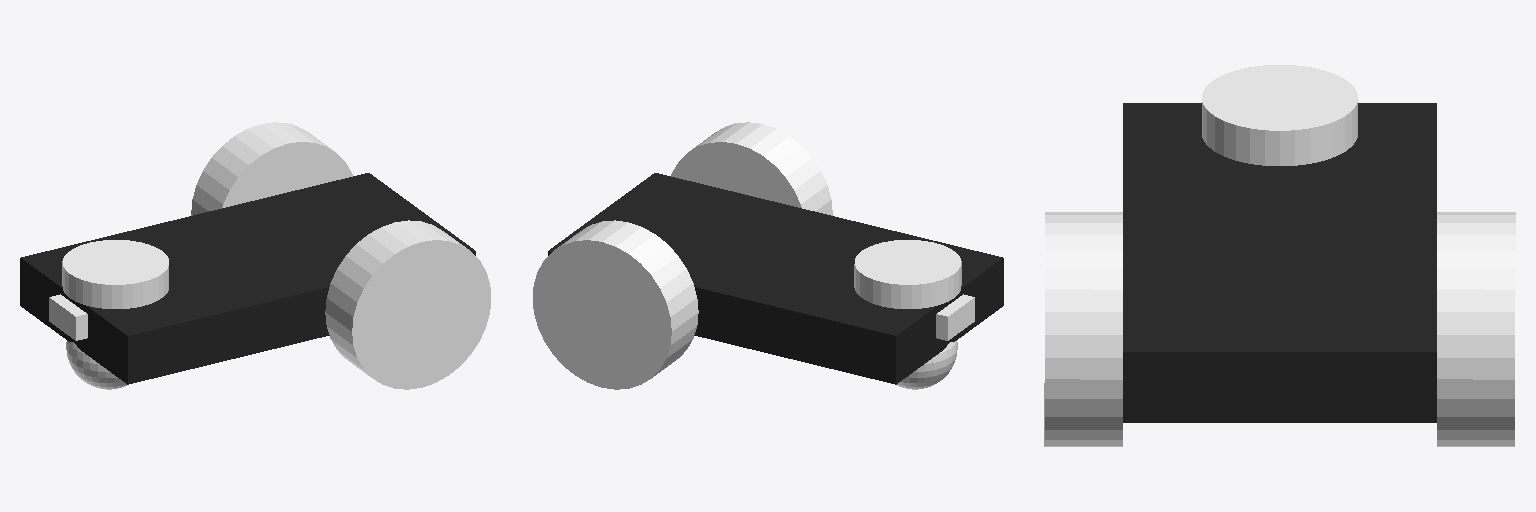
robot.urdf — three_wheeled_robot:
<?xml version="1.0" ?>
<!-- Define the robot model and name it "three_wheeled_robot" -->
<robot name="three_wheeled_robot">
    <link name="base_footprint"/>

    <!-- Define the base link of the robot -->
    <link name="base">
        <!-- Visual properties of the base link -->
        <visual>
            <geometry>
                <!-- The base is represented as a box with the specified dimensions -->
                <box size="0.75 0.4 0.1"/>
            </geometry>
            <material name="gray">
                <!-- Set the color of the base to gray -->
                <color rgba=".2 .2 .2 1" />
            </material>
        </visual>
        <!-- Inertial properties of the base link -->
        <inertial>
            <!-- Mass of the base link -->
            <mass value="1" />
            <!-- Inertia tensor of the base link -->
            <inertia ixx="0.01" ixy="0.0" ixz="0" iyy="0.01" iyz="0" izz="0.01" />
        </inertial>

        
        <!-- Collision properties of the base link -->
        <collision>
            <geometry>
                <!-- The collision shape is the same as the visual shape -->
                <box size="0.75 0.4 0.1"/>
            </geometry>
        </collision>
    </link>

     
    <!-- Define the right wheel link of the robot -->
    <link name="wheel_right_link">
        <!-- Inertial properties of the right wheel -->
        <inertial>
            <!-- Mass of the right wheel -->
            <mass value="2" />
            <!-- Inertia tensor of the right wheel -->
            <inertia ixx="0.01" ixy="0.0" ixz="0" iyy="0.01" iyz="0" izz="0.01" />
        </inertial>
     

        <!-- Visual properties of the right wheel -->
        <visual>
            <geometry>
                <!-- The right wheel is represented as a cylinder with the specified radius and length -->
                <cylinder radius="0.15" length="0.1"/>
            </geometry>
            <material name="white">
                <!-- Set the color of the right wheel to white -->
                <color rgba="1 1 1 1"/>
            </material>
        </visual>
        <!-- Collision properties of the right wheel -->
        <collision>
            <geometry>
                <!-- The collision shape is the same as the visual shape -->
                <cylinder radius="0.15" length="0.1"/>
            </geometry>
            <contact_coefficients mu="1" kp="1e+13" kd="1.0"/>
        </collision>
    </link>

    <joint name="footprint_joint" type="fixed">
        <!-- Origin of the joint in relation to the parent link (base) -->
        <origin xyz="0.0 0.0 0.0" rpy="0.0 0.0 0.0"/>
        <!-- The parent link of this joint -->
        <parent link="base_footprint"/>
        <!-- The child link of this joint -->
        <child link="base"/>
        <!-- The axis of rotation for the joint -->
        <axis xyz="0.0 0.0 1.0"/>
    </joint>
       
    <!-- Define the joint for the right wheel -->
    <joint name="wheel_right_joint" type="continuous">
        <!-- Origin of the joint in relation to the parent link (base) -->
        <origin xyz="0.2 0.25 0.0" rpy="1.57 0.0 0.0"/>
        <!-- The parent link of this joint -->
        <parent link="base"/>
        <!-- The child link of this joint -->
        <child link="wheel_right_link"/>
        <!-- The axis of rotation for the joint -->
        <axis xyz="0.0 0.0 1.0"/>
    </joint>

    <!-- Define the left wheel link of the robot -->
    <link name="wheel_left_link">
        <!-- Inertial properties of the left wheel -->
        <inertial>
            <!-- Mass of the left wheel -->
            <mass value="2" />
            <!-- Inertia tensor of the left wheel -->
            <inertia ixx="0.01" ixy="0.0" ixz="0" iyy="0.01" iyz="0" izz="0.01" />
        </inertial>
        <!-- Visual properties of the left wheel -->
        <visual>
            <geometry>
                <!-- The left wheel is represented as a cylinder with the specified radius and length -->
                <cylinder radius="0.15" length="0.1"/>
            </geometry>
            <material name="white">
                <!-- Set the color of the left wheel to white -->
                <color rgba="1 1 1 1"/>
            </material>
        </visual>
        <!-- Collision properties of the left wheel -->
        <collision>
            <geometry>
                <!-- The collision shape is the same as the visual shape -->
                <cylinder radius="0.15" length="0.1"/>
            </geometry>
            <contact_coefficients mu="1" kp="1e+13" kd="1.0"/>
        </collision>
    </link>

    <!-- Define the joint for the left wheel -->
    <joint name="wheel_left_joint" type="continuous">
        <!-- Origin of the joint in relation to the parent link (base) -->
        <origin xyz="0.2 -0.25 0.0" rpy="1.57 0.0 0.0"/>
        <!-- The parent link of this joint -->
        <parent link="base"/>
        <!-- The child link of this joint -->
        <child link="wheel_left_link"/>
        <!-- The axis of rotation for the joint -->
        <axis xyz="0.0 0.0 1.0"/>
    </joint>

    <!-- Define the caster link of the robot -->
    <link name="caster">
        <!-- Inertial properties of the caster -->
        <inertial>
            <!-- Mass of the caster -->
            <mass value="1" />
            <!-- Inertia tensor of the caster -->
            <inertia ixx="0.01" ixy="0.0" ixz="0" iyy="0.01" iyz="0" izz="0.01" />
        </inertial>
        <!-- Visual properties of the caster -->
        <visual>
            <geometry>
                <!-- The caster is represented as a sphere with the specified radius -->
                <sphere radius=".08" />
            </geometry>
            <material name="white" />
        </visual>
        <!-- Collision properties of the caster -->
        <collision>
            <origin/>
            <geometry>
                <!-- The collision shape is the same as the visual shape -->
                <sphere radius=".08" />
            </geometry>
        </collision>
    </link>

    <!-- Define the joint for the caster -->
    <joint name="caster_joint" type="continuous">
        <!-- Origin of the joint in relation to the parent link (base) -->
        <origin xyz="-0.3 0.0 -0.07" rpy="0.0 0.0 0.0"/>
        <axis xyz="0 0 1" />
        <!-- The parent link of this joint -->
        <parent link="base"/>
        <!-- The child link of this joint -->
        <child link="caster"/>
    </joint>

    <!-- Define the camera link of the robot -->
    <link name="camera">
        <!-- Inertial properties of the camera -->
        <inertial>
            <!-- Mass of the camera -->
            <mass value="0.1" />
            <!-- Inertia tensor of the camera -->
            <inertia ixx="0.01" ixy="0.0" ixz="0" iyy="0.01" iyz="0" izz="0.01" />
        </inertial>
        <!-- Visual properties of the camera -->
        <visual>
            <geometry>
                <!-- The camera is represented as a box with the specified dimensions -->
                <box size="0.1 0.1 0.05"/>
            </geometry>
            <material name="white">
                <!-- Set the color of the camera to white -->
                <color rgba="1 1 1 1"/>
            </material>
        </visual>
        <!-- Collision properties of the camera -->
        <collision>
            <geometry>
                <!-- The collision shape is the same as the visual shape -->
                <box size="0.1 0.1 0.05"/>
            </geometry>
        </collision>
    </link>

    <!-- Define the joint for the camera -->
    <joint name="camera_joint" type="fixed">
        <!-- Origin of the joint in relation to the parent link (base) -->
        <origin xyz="-0.35 0 0.01" rpy="0 0.0 3.14"/>
        <!-- The parent link of this joint -->
        <parent link="base"/>
        <!-- The child link of this joint -->
        <child link="camera"/>
        <!-- The axis of rotation for the joint -->
        <axis xyz="0.0 0.0 1.0"/>
    </joint>

    <!-- Define the lidar link of the robot -->
    <link name="lidar">
        <!-- Inertial properties of the lidar -->
        <inertial>
            <!-- Mass of the lidar -->
            <mass value="0.5" />
            <!-- Inertia tensor of the lidar -->
            <inertia ixx="0.01" ixy="0.0" ixz="0" iyy="0.01" iyz="0" izz="0.01" />
        </inertial>
        <!-- Visual properties of the lidar -->
        <visual>
            <geometry>
                <!-- The lidar is represented as a cylinder with the specified radius and length -->
                <cylinder radius="0.1" length="0.05"/>
            </geometry>
            <material name="white">
                <!-- Set the color of the lidar to white -->
                <color rgba="1 1 1 1"/>
            </material>
        </visual>
        <!-- Collision properties of the lidar -->
        <collision>
            <geometry>
                <!-- The collision shape is a box with the specified dimensions -->
                <box size="0.1 0.1 0.1"/>
            </geometry>
        </collision>
    </link>

    <!-- Define the joint for the lidar -->
    <joint name="lidar_joint" type="fixed">
        <!-- Origin of the joint in relation to the parent link (base) -->
        <origin xyz="-0.285 0 0.075" rpy="0 0.0 1.57"/>
        <!-- The parent link of this joint -->
        <parent link="base"/>
        <!-- The child link of this joint -->
        <child link="lidar"/>
        <!-- The axis of rotation for the joint -->
        <axis xyz="0.0 0.0 1.0"/>
    </joint>

    <!-- Define Gazebo-specific properties for the base link -->
    <gazebo reference="base">
        <!-- Set the material of the base link in Gazebo -->
        <material>Gazebo/WhiteGlow</material>
    </gazebo>

    <!-- Define Gazebo-specific properties for the left wheel link -->
    <gazebo reference="wheel_left_link">
        <!-- Set the material of the left wheel link in Gazebo -->
        <material>Gazebo/SkyBlue</material>
    </gazebo>

    <!-- Define Gazebo-specific properties for the right wheel link -->
    <gazebo reference="wheel_right_link">
        <!-- Set the material of the right wheel link in Gazebo -->
        <material>Gazebo/SkyBlue</material>
    </gazebo>

    <!-- Define Gazebo-specific properties for the caster -->
    <gazebo reference="caster">
        <!-- Set the material of the caster in Gazebo -->
        <material>Gazebo/Grey</material>
    </gazebo>

    <!-- Define Gazebo-specific properties for the lidar -->
    <gazebo reference="lidar">
        <!-- Set the material of the lidar in Gazebo -->
        <material>Gazebo/Blue</material>
    </gazebo>

    <!-- Define Gazebo-specific properties for the camera -->
    <gazebo reference="camera">
        <!-- Set the material of the camera in Gazebo -->
        <material>Gazebo/Red</material>
    </gazebo>

    <!-- Define the Gazebo plugin for differential drive control -->
    <gazebo>
        <plugin filename="libgazebo_ros_diff_drive.so" name="gazebo_base_controller">
            <!-- Odometry frame for the plugin -->
            <odometry_frame>odom</odometry_frame>
            <!-- Command topic for velocity commands -->
            <commandTopic>cmd_vel</commandTopic>
            <!-- Publish odometry data -->
            <publish_odom>true</publish_odom>
            <!-- Publish odometry transform -->
            <publish_odom_tf>true</publish_odom_tf>
            <!-- Update rate for the plugin -->
            <update_rate>15.0</update_rate>
            <!-- Left wheel joint name -->
            <left_joint>wheel_left_joint</left_joint>
            <!-- Right wheel joint name -->
            <right_joint>wheel_right_joint</right_joint>
            <!-- Wheel separation distance -->
            <wheel_separation>0.5</wheel_separation>
            <!-- Wheel diameter -->
            <wheel_diameter>0.3</wheel_diameter>
            <!-- Maximum wheel acceleration -->
            <max_wheel_acceleration>0.7</max_wheel_acceleration>
            <!-- Maximum wheel torque -->
            <max_wheel_torque>8</max_wheel_torque>
            <!-- Base frame of the robot -->
            <robotBaseFrame>base</robotBaseFrame>
        </plugin>
    </gazebo>

    <!-- Define the Gazebo plugin for the camera -->
    <gazebo reference="camera">
        <!-- Define the camera sensor -->
        <sensor type="camera" name="camera1">
            <!-- Visualize the camera output in Gazebo -->
            <visualize>true</visualize>
            <!-- Update rate for the camera sensor -->
            <update_rate>30.0</update_rate>
            <camera name="head">
                <!-- Horizontal field of view for the camera -->
                <horizontal_fov>1.3962634</horizontal_fov>
                <image>
                    <!-- Image width in pixels -->
                    <width>800</width>
                    <!-- Image height in pixels -->
                    <height>800</height>
                    <!-- Image format -->
                    <format>R8G8B8</format>
                </image>
                <clip>
                    <!-- Near clipping distance -->
                    <near>0.02</near>
                    <!-- Far clipping distance -->
                    <far>300</far>
                </clip>
            </camera>
            <plugin name="camera_controller" filename="libgazebo_ros_camera.so">
                <!-- Always keep the camera on -->
                <alwaysOn>true</alwaysOn>
                <!-- Update rate for the camera controller -->
                <updateRate>60.0</updateRate>
                <!-- Camera name for the controller -->
                <cameraName>/camera1</cameraName>
                <!-- Image topic name -->
                <imageTopicName>image_raw</imageTopicName>
                <!-- Camera info topic name -->
                <cameraInfoTopicName>info_camera</cameraInfoTopicName>
                <!-- Frame name for the camera -->
                <frameName>camera</frameName>
                <!-- Baseline for stereo camera setup (not used here) -->
                <hackBaseline>0.07</hackBaseline>
            </plugin>
        </sensor>
    </gazebo>

    <!-- Define the Gazebo plugin for the lidar -->
    <gazebo reference="lidar">
        <!-- Define the lidar sensor -->
        <sensor name="lidar" type="ray">
            <!-- Visualize the lidar output in Gazebo -->
            <visualize>true</visualize>
            <!-- Update rate for the lidar sensor -->
            <update_rate>12.0</update_rate>
            <plugin filename="libgazebo_ros_ray_sensor.so" name="gazebo_lidar">
                <!-- Output type for the lidar sensor -->
                <output_type>sensor_msgs/LaserScan</output_type>
                <!-- Frame name for the lidar sensor -->
                <frame_name>lidar</frame_name>
            </plugin>
            <ray>
                <scan>
                    <horizontal>
                        <!-- Number of samples for the lidar scan -->
                        <samples>360</samples>
                        <!-- Resolution of the lidar scan -->
                        <resolution>1</resolution>
                        <!-- Minimum angle for the lidar scan -->
                        <min_angle>0.00</min_angle>
                        <!-- Maximum angle for the lidar scan -->
                        <max_angle>3.14</max_angle>
                    </horizontal>
                </scan>
                <range>
                    <!-- Minimum range for the lidar sensor -->
                    <min>0.120</min>
                    <!-- Maximum range for the lidar sensor -->
                    <max>3.5</max>
                    <!-- Resolution of the lidar range -->
                    <resolution>0.015</resolution>
                </range>
            </ray>
        </sensor>
    </gazebo>

</robot>

--- Render facts (derived) ---
3 views of the same robot in one strip: view 1: azimuth 30°, elevation 25°; view 2: azimuth 150°, elevation 25°; view 3: azimuth 270°, elevation 25° (orthographic).
Model three_wheeled_robot with 7 links and 6 joints (3 continuous, 3 fixed), rooted at base_footprint, posed all joints at 0.
Links seen in each view (by area): view 1: base, wheel_left_link, wheel_right_link, lidar, caster, camera; view 2: base, wheel_right_link, wheel_left_link, lidar, caster, camera; view 3: base, wheel_right_link, wheel_left_link, lidar.
Boxes of the visible links, x1=… form: base: x1=20, y1=173, x2=475, y2=384; wheel_left_link: x1=325, y1=220, x2=490, y2=389; wheel_right_link: x1=191, y1=122, x2=352, y2=215; lidar: x1=62, y1=240, x2=168, y2=308; caster: x1=66, y1=341, x2=126, y2=389; camera: x1=49, y1=294, x2=87, y2=340; base: x1=548, y1=173, x2=1003, y2=384; wheel_right_link: x1=533, y1=220, x2=698, y2=389; wheel_left_link: x1=671, y1=122, x2=832, y2=215; lidar: x1=854, y1=240, x2=961, y2=308; caster: x1=897, y1=341, x2=957, y2=389; camera: x1=936, y1=294, x2=974, y2=340; base: x1=1123, y1=103, x2=1436, y2=422; wheel_right_link: x1=1437, y1=212, x2=1515, y2=446; wheel_left_link: x1=1044, y1=212, x2=1122, y2=446; lidar: x1=1202, y1=65, x2=1357, y2=165.
Bounding box of the posed robot: 0.7751 × 0.6002 × 0.3001 m (x, y, z).
Geometry: primitives only (box / cylinder / sphere), no mesh files.
